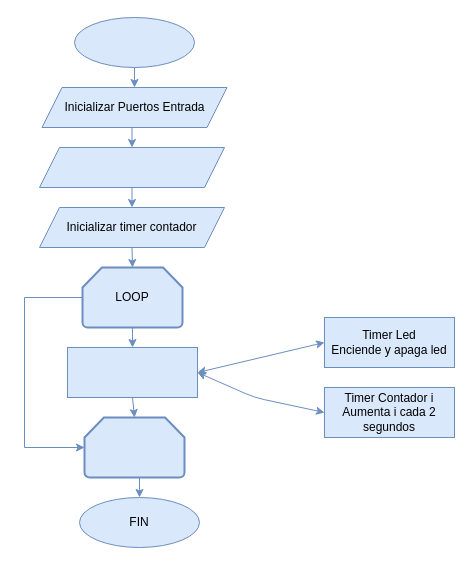
Some shapes in this 472 by 565 pixel diagram are drawn without their labels. Here are the shapes that lost their labels. From the top down, the centre of each, then its label:
At (x=134, y=42): "INICIO".
At (x=131, y=167): "Inicializar timer led".
At (x=132, y=372): "PORTD = numeros[i];".
